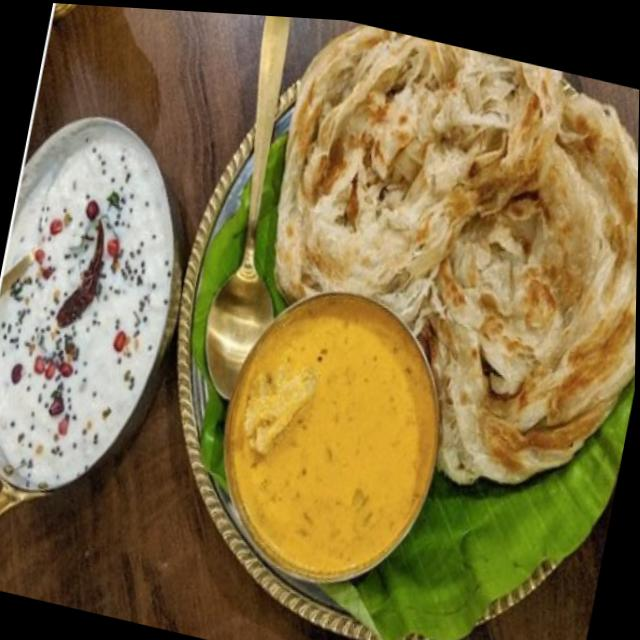CURD RICE: (0, 143, 169, 484)
CURRY: (231, 300, 434, 575)
PAROTTA: (272, 22, 638, 486)
